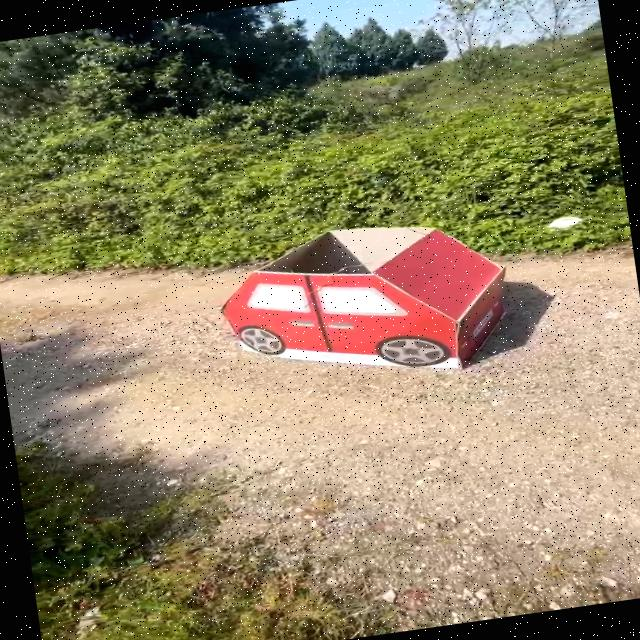red_car: (167, 201, 550, 415)
